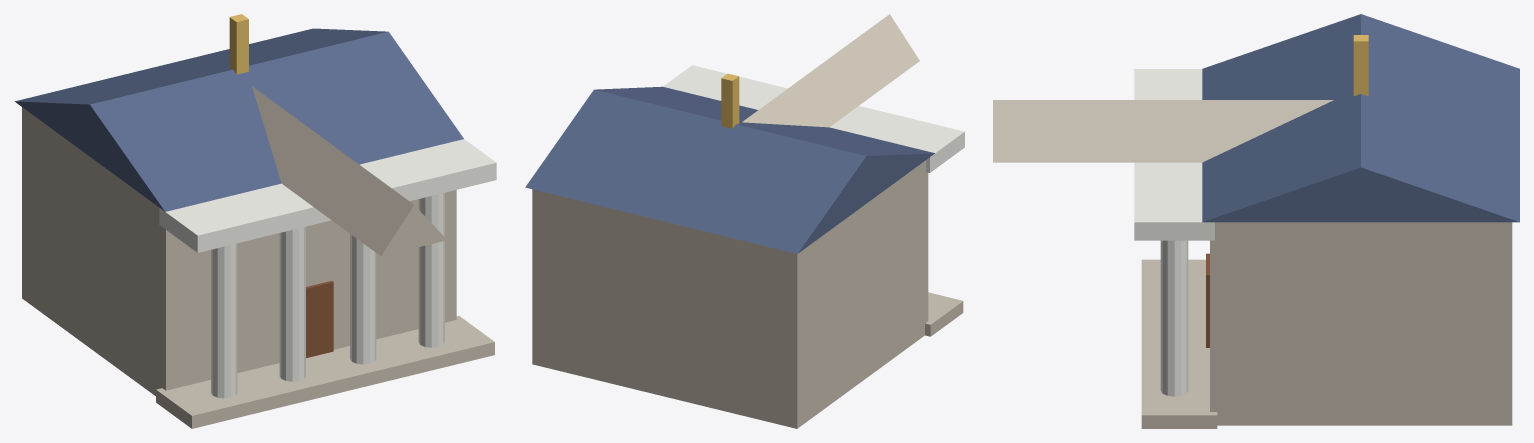
The model's file is bank.glb.
3 renders of one model, left to right at view 1: azimuth 30°, elevation 25°; view 2: azimuth 150°, elevation 25°; view 3: azimuth 270°, elevation 25°, orthographic. The views are drawn at different scales.
Visible parts, largest first — view 1: bank_stone, bank_roof_slate, bank_offwhite, bank_door, bank_gold; view 2: bank_stone, bank_roof_slate, bank_offwhite, bank_gold; view 3: bank_stone, bank_roof_slate, bank_offwhite, bank_gold.
Part boxes in pixels (x1,y1,x2,y2): bank_stone: (22, 86, 494, 428); bank_roof_slate: (14, 28, 463, 211); bank_offwhite: (159, 139, 496, 398); bank_door: (306, 281, 333, 358); bank_gold: (229, 14, 248, 74); bank_stone: (532, 14, 963, 428); bank_roof_slate: (525, 86, 934, 253); bank_offwhite: (663, 65, 964, 172); bank_gold: (721, 73, 739, 128); bank_stone: (993, 100, 1512, 428); bank_roof_slate: (1202, 14, 1519, 222); bank_offwhite: (1134, 69, 1214, 396); bank_gold: (1353, 35, 1368, 96).
Size of the model in its own units: 14.6 by 13.7 by 20.9.
